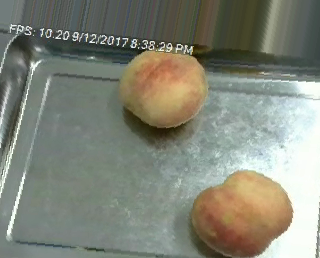Peach: (191, 169, 294, 257), (120, 46, 207, 128)
